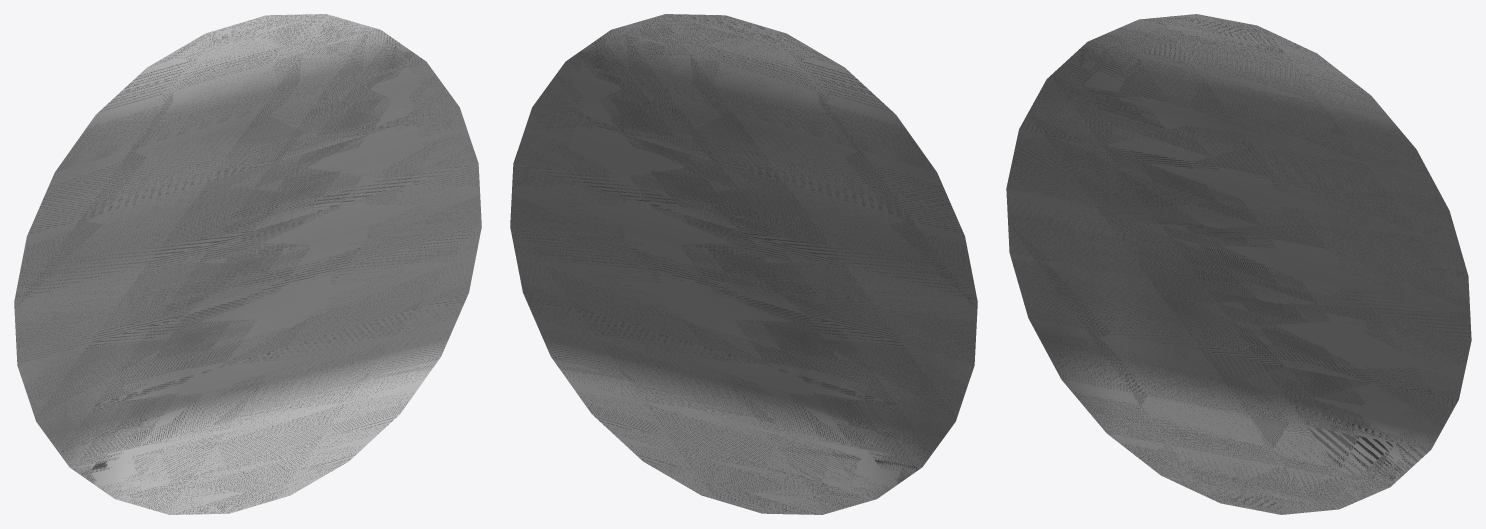
File: original-27.obj
The picture shows the model from 3 angles, left to right: view 1: azimuth 30°, elevation 25°; view 2: azimuth 150°, elevation 25°; view 3: azimuth 330°, elevation 25°; orthographic projection.
Visible parts, largest first — view 1: 3dw.2c6493d31849c15a75f1efca97bee05a/Model/Sentry_Really_Big_Rem; view 2: 3dw.2c6493d31849c15a75f1efca97bee05a/Model/Sentry_Really_Big_Rem; view 3: 3dw.2c6493d31849c15a75f1efca97bee05a/Model/Sentry_Really_Big_Rem.
Part boxes in pixels (x1,y1,x2,y2): 3dw.2c6493d31849c15a75f1efca97bee05a/Model/Sentry_Really_Big_Rem: [14, 14, 481, 514]; 3dw.2c6493d31849c15a75f1efca97bee05a/Model/Sentry_Really_Big_Rem: [510, 14, 977, 514]; 3dw.2c6493d31849c15a75f1efca97bee05a/Model/Sentry_Really_Big_Rem: [1006, 14, 1471, 514].
Size of the model in its own units: 0.1365 by 0.1365 by 0.
